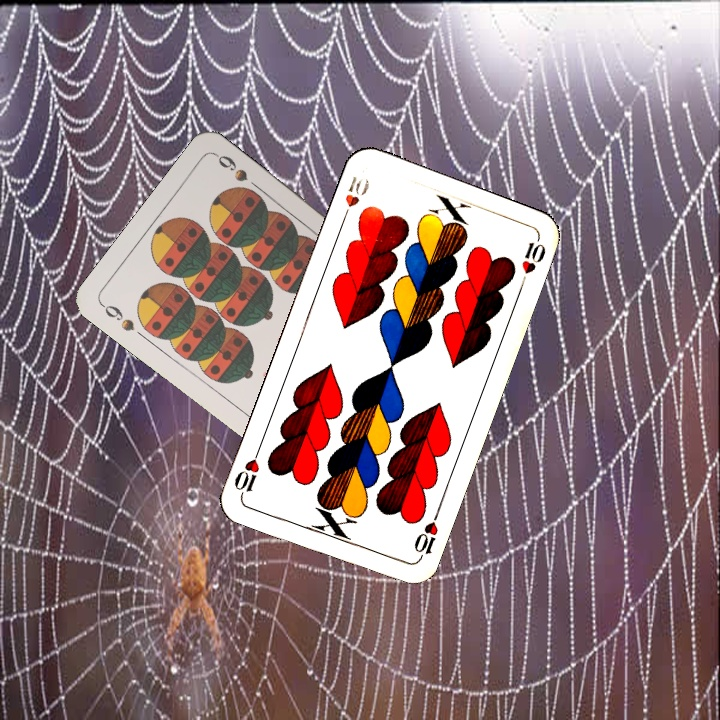H10: (410, 507, 443, 564), (337, 172, 372, 225)
S9: (97, 299, 138, 334)
